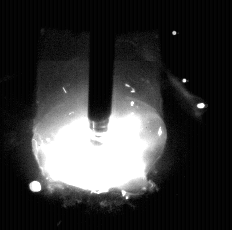arame: (88, 0, 114, 132)
poca: (30, 0, 166, 230)
